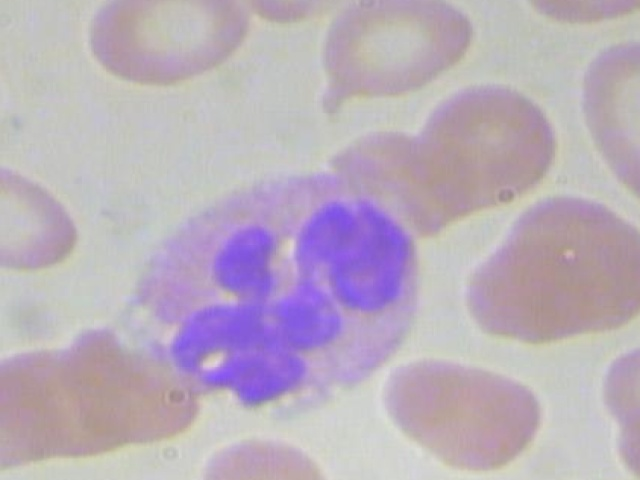RBC: (444, 193, 640, 354), (375, 345, 557, 479), (406, 77, 572, 216), (296, 0, 478, 117), (80, 0, 257, 87), (570, 33, 640, 206), (0, 142, 84, 276), (184, 425, 351, 480), (585, 326, 640, 439), (499, 471, 640, 480)
WBC: (114, 161, 439, 427)
